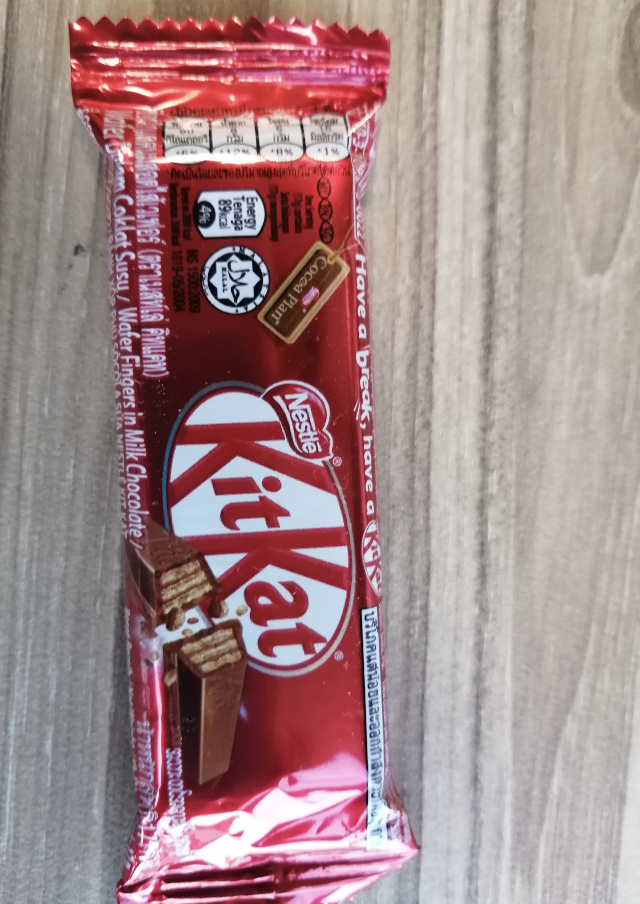Halal: (211, 251, 261, 303)
